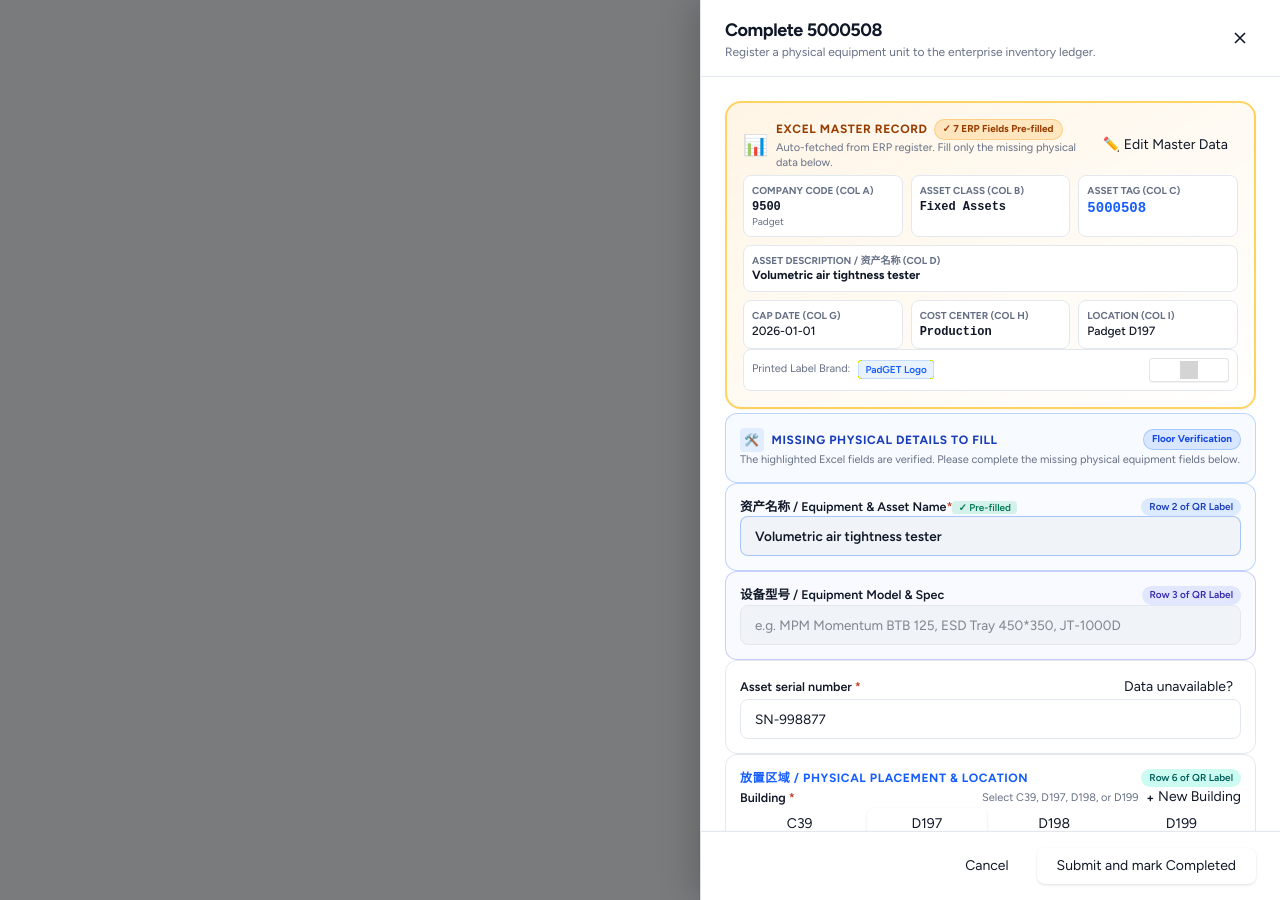
Test: Four Major Asset Categories Specification › 5. AddAssetPanel reveals 4 category buttons upon clicking Edit Master Data for pre-filled assets
The image size is (1280, 900).
Expected: the button "Fixtures" is not shown
// Click "Edit Master Data"
What coordinates should you click on to do the following:
click the button "✏️ Edit Master Data"
I would click on:
 (1165, 145)
Its box is [1093, 131, 1238, 159].
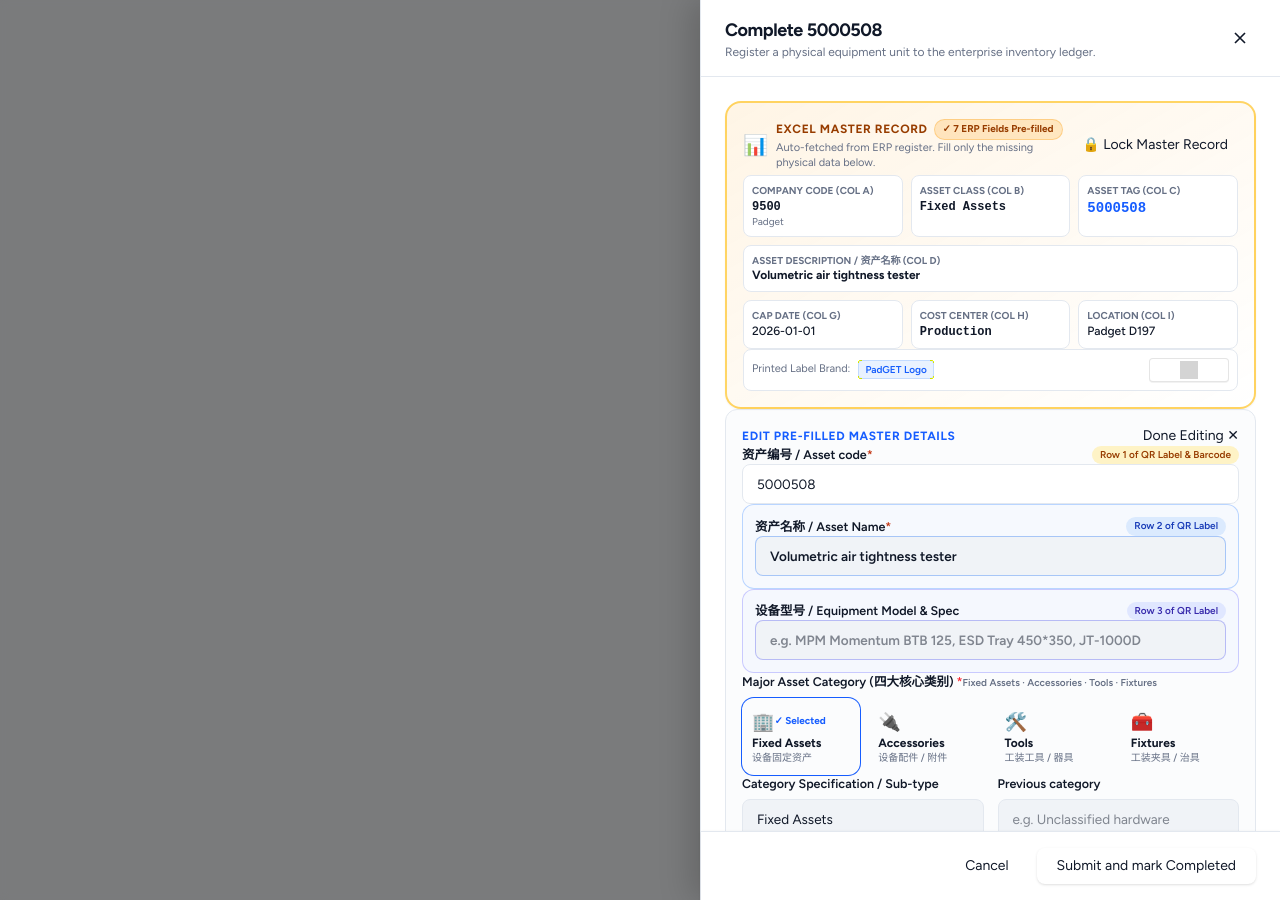
Result: the button "🏢 ✓ Selected Fixed Assets 设备固定资产" is shown at [742, 698, 860, 775]
Result: the button "🔌 Accessories 设备配件 / 附件" is shown at [868, 698, 987, 775]
Result: the button "🛠️ Tools 工装工具 / 器具" is shown at [994, 698, 1113, 775]
